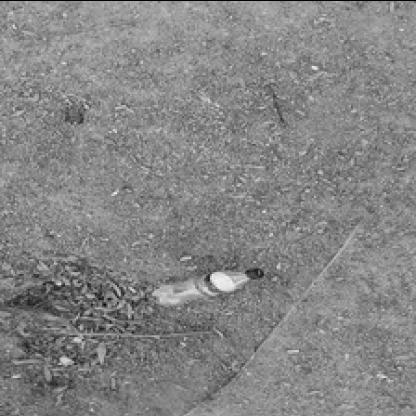plastic_bottles: (147, 256, 273, 312)
